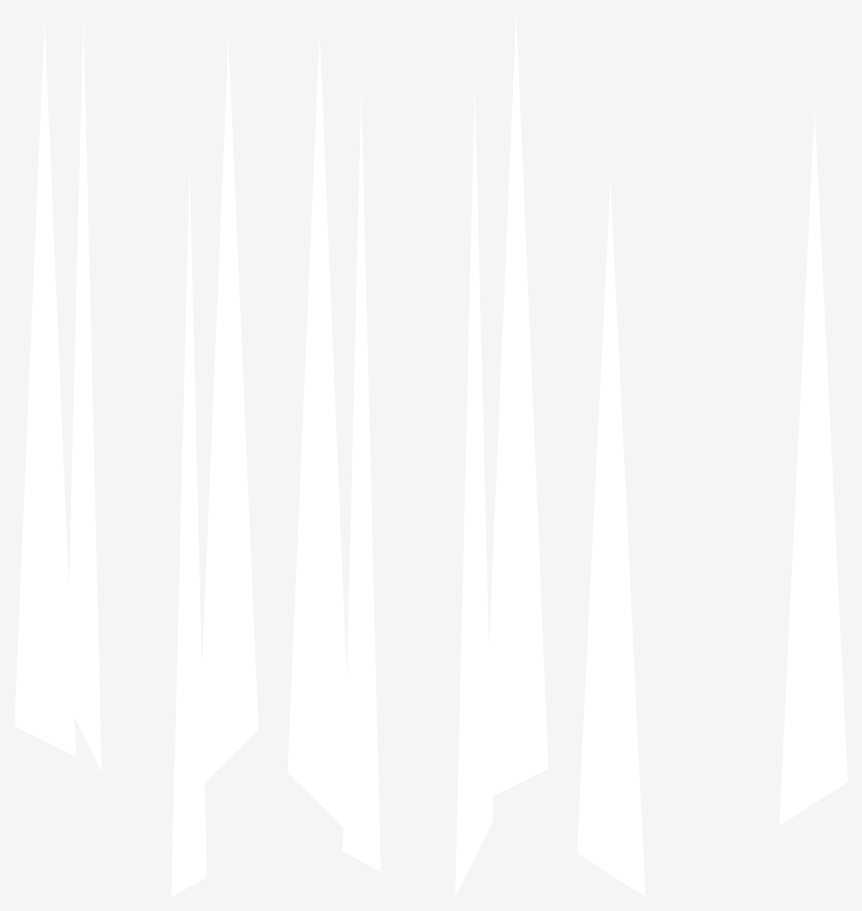
The model's file is gunshot_1.glb.
3 renders of one model, left to right at view 1: azimuth 30°, elevation 25°; view 2: azimuth 150°, elevation 25°; view 3: azimuth 270°, elevation 25°, orthographic. The views are drawn at different scales.
Visible parts, largest first — view 1: group_13; view 2: group_13; view 3: group_13.
Boxes of the visible parts, <box> form: group_13: <box>14,17,258,896</box>; group_13: <box>287,17,548,895</box>; group_13: <box>577,111,847,896</box>.
Size of the model in its own units: 162 by 554 by 162.
Materials: 1 (1 with a texture image).
